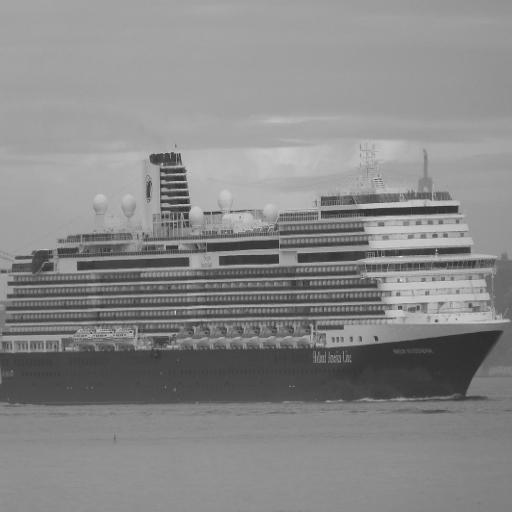cruises: (1, 135, 512, 411)
